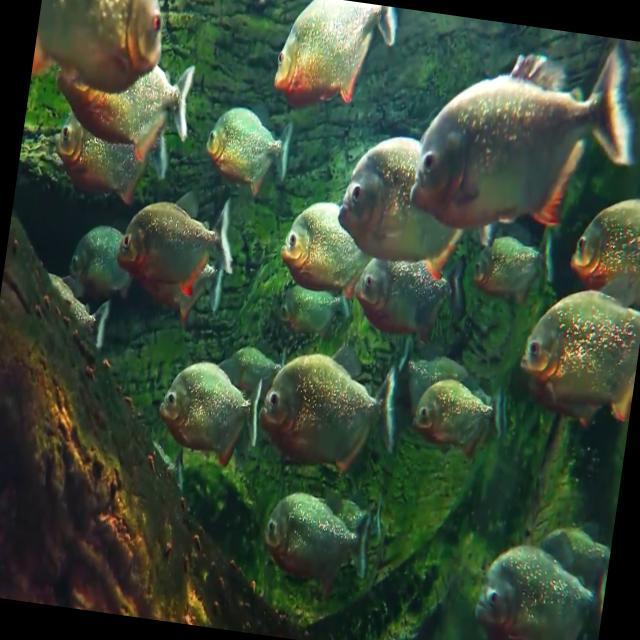fish: (400, 12, 640, 275), (246, 344, 409, 491), (512, 272, 640, 428), (44, 42, 200, 168), (108, 172, 246, 298), (254, 472, 378, 607), (143, 348, 267, 476), (270, 0, 402, 115), (464, 537, 610, 640), (30, 0, 175, 100), (404, 364, 528, 474), (341, 241, 455, 353), (194, 96, 302, 210), (276, 196, 380, 303), (462, 216, 567, 318), (560, 177, 640, 301), (60, 204, 138, 310), (32, 268, 114, 351)
